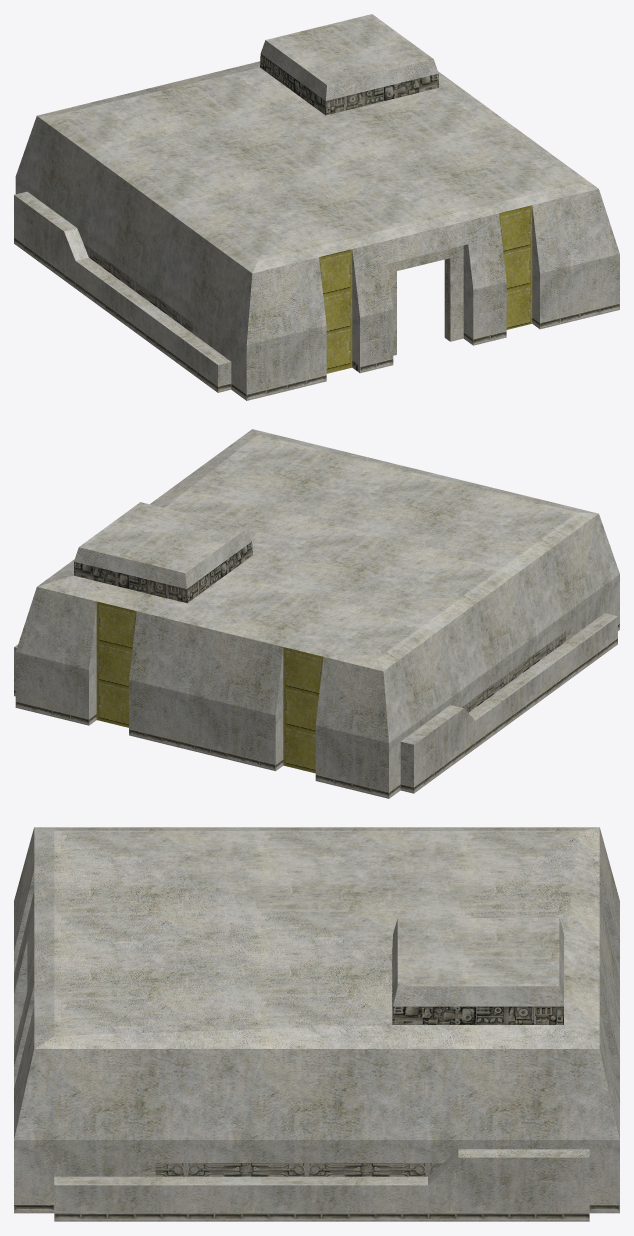
File: poi_all_rebl_bunker_s01_r0_exterior_mesh_exterior_l1.fbx
3 views of the same model, one above another, from view 1: azimuth 30°, elevation 25°; view 2: azimuth 150°, elevation 25°; view 3: azimuth 270°, elevation 25° (orthographic). The views are drawn at different scales.
Parts seen in each view (by area): view 1: mesh_node; view 2: mesh_node; view 3: mesh_node.
Boxes of the visible parts, bbox=[...] form: mesh_node: bbox=[14, 14, 619, 400]; mesh_node: bbox=[14, 429, 619, 798]; mesh_node: bbox=[14, 827, 619, 1221].
Bounding box in the file's own units: 15 × 5.5 × 15.
